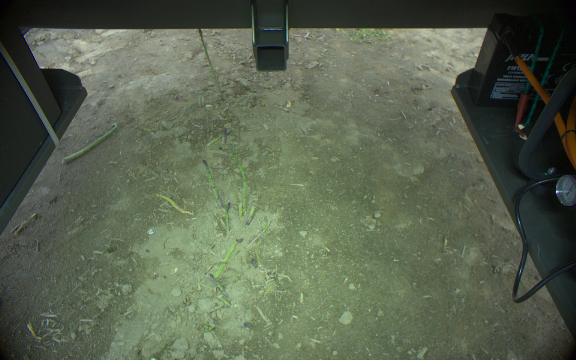aspa: (64, 123, 119, 164), (197, 29, 222, 98), (214, 237, 243, 280), (200, 159, 221, 207), (154, 191, 193, 216), (232, 151, 246, 214), (207, 272, 229, 297), (222, 202, 232, 239), (243, 204, 256, 227), (214, 293, 232, 308), (222, 126, 227, 145)
